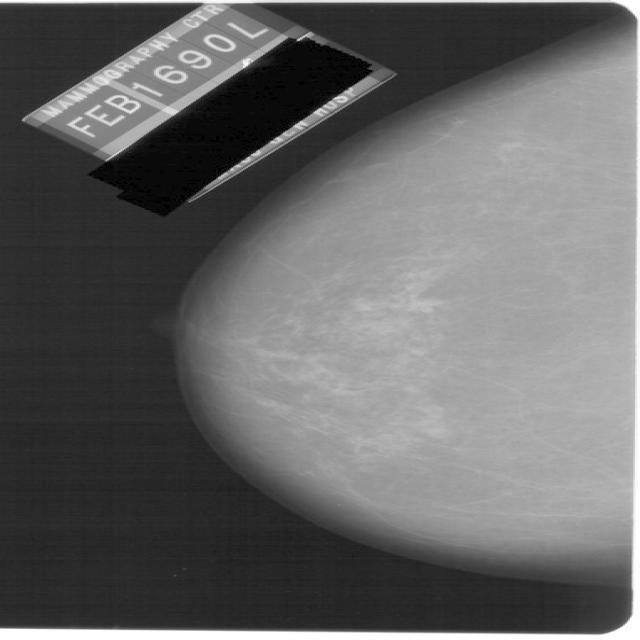tumour: (390, 291, 442, 313)
